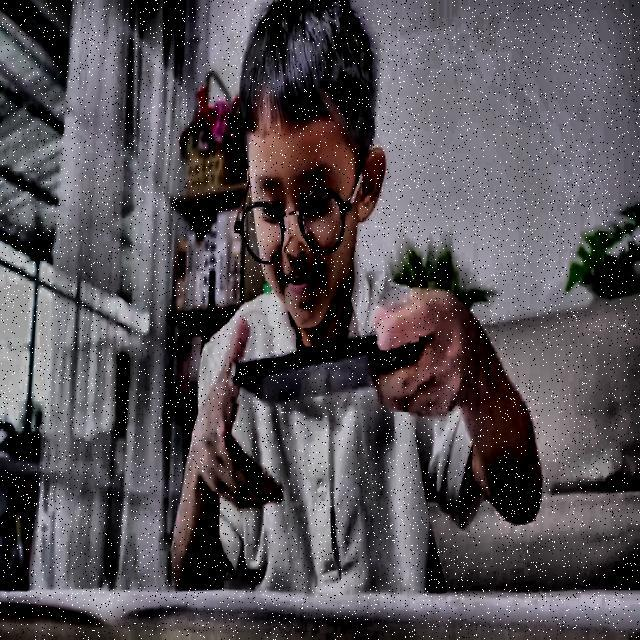Phone: (228, 326, 418, 411)
